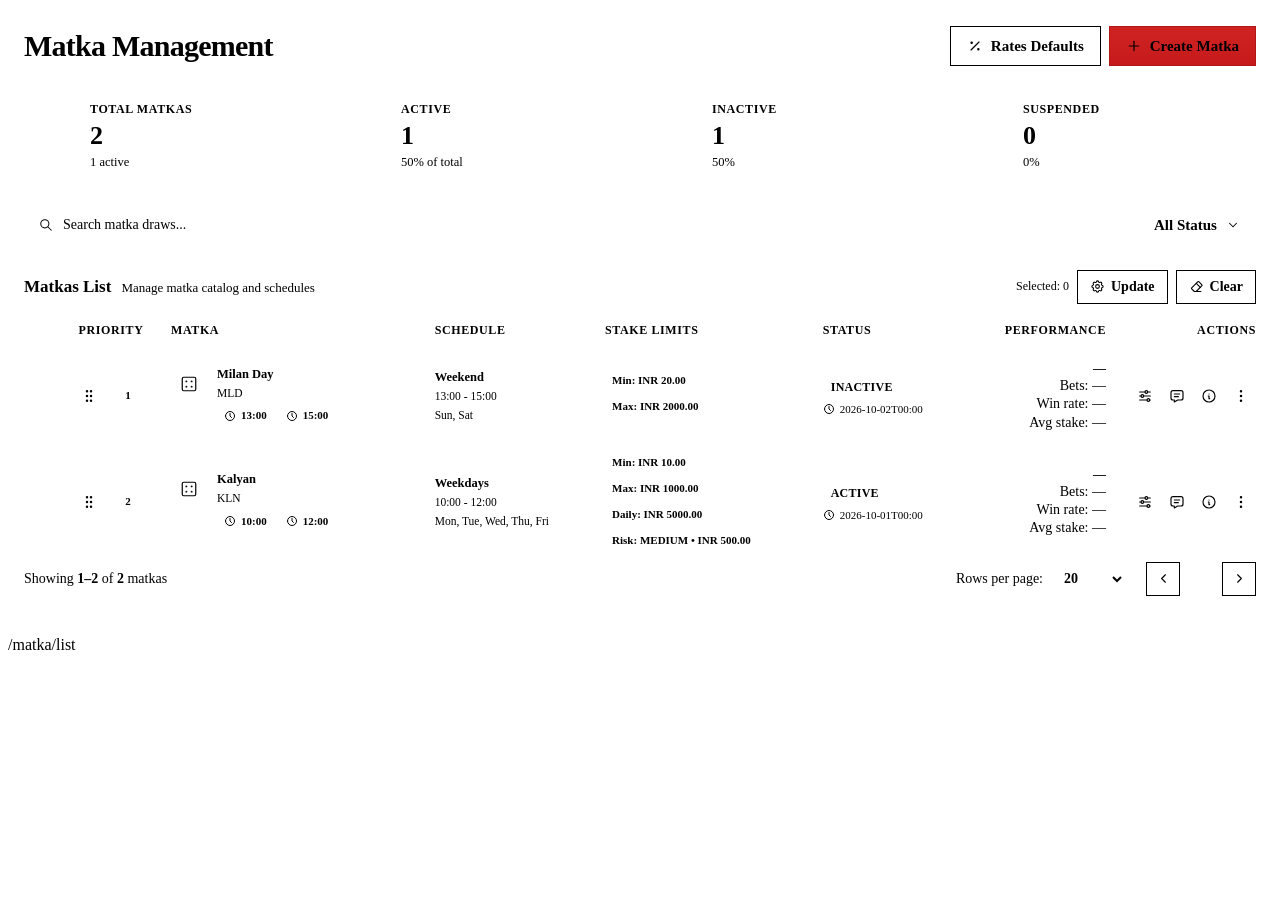
Scenario: MatkaManagementPage › opens individual bid settings as a dedicated page link instead of a drawer
Expected: the table named "Matka catalog" is shown, [24,310,1256,562]
Expected: the text "Kalyan" is shown, [217,472,256,486]
Click the button named "Open bid settings for Kalyan": click(1145, 502) [1130,487,1160,517]
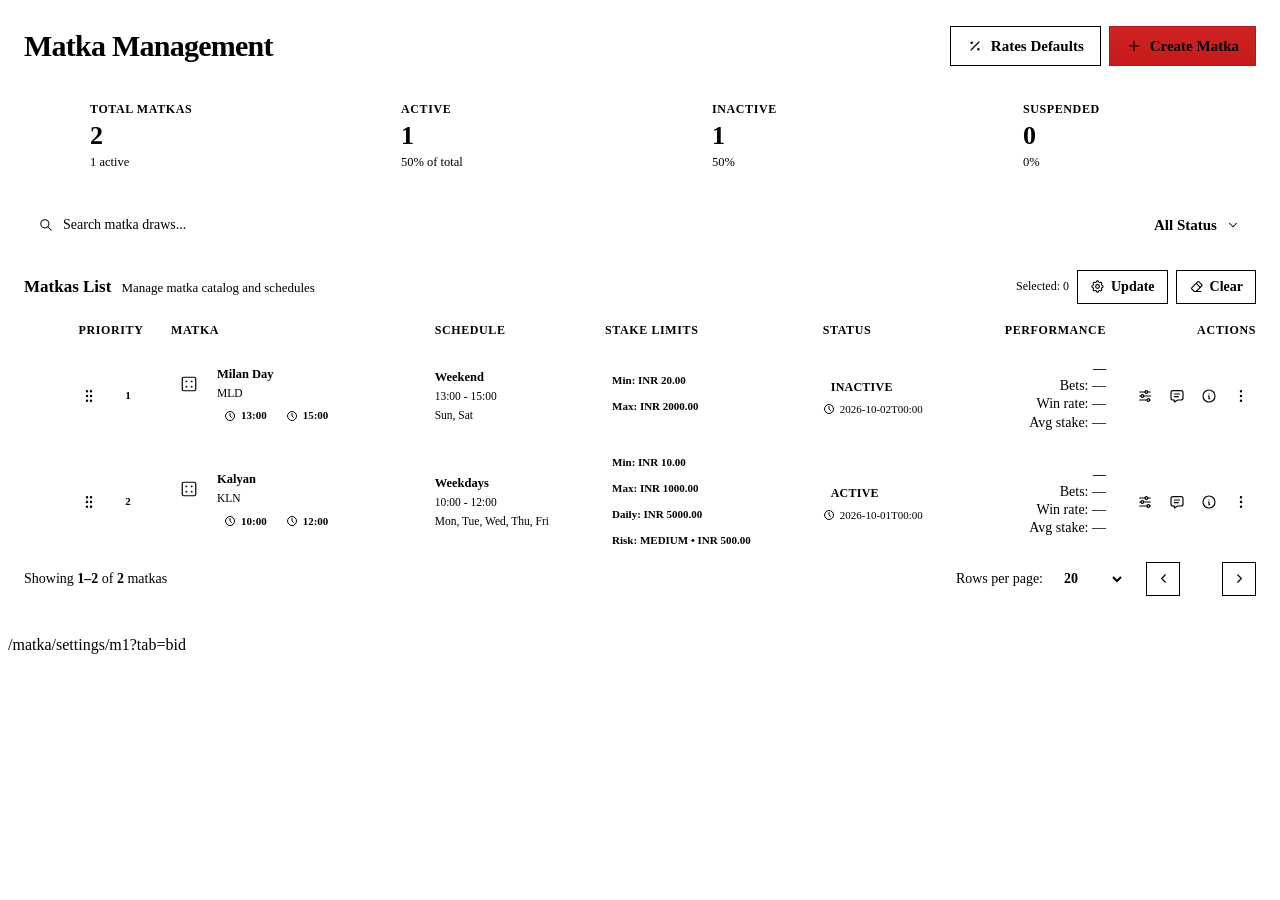
Result: the text with test id "location" reads "/matka/settings/m1?tab=bid" at [8,636,186,653]
